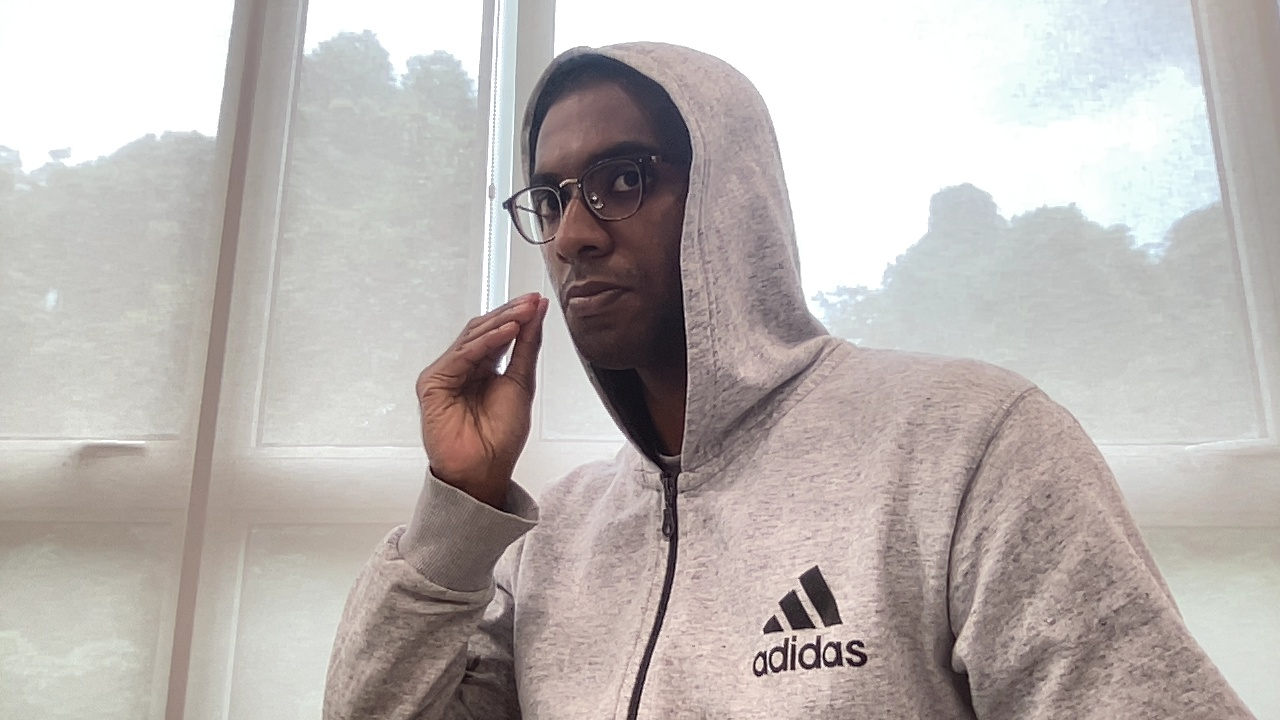eat: (412, 290, 556, 471)
